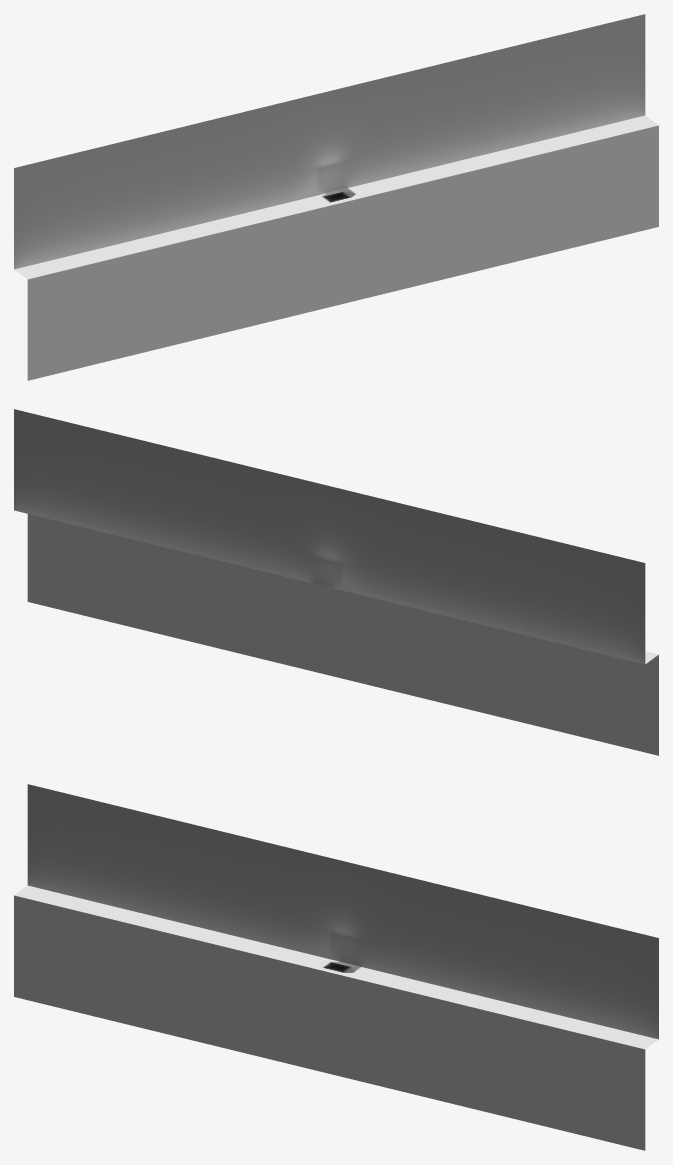
Rendered from floor.glb.
3 renders of one model, top to bottom at view 1: azimuth 30°, elevation 25°; view 2: azimuth 150°, elevation 25°; view 3: azimuth 330°, elevation 25°, orthographic.
Visible parts, largest first — view 1: Plane; view 2: Plane; view 3: Plane.
Part boxes in pixels (bbox=[...]): Plane: bbox=[14, 14, 658, 380]; Plane: bbox=[14, 409, 658, 755]; Plane: bbox=[14, 784, 658, 1150].
Size of the model in its own units: 100 by 30.7 by 3.75.
Materials: 1 (1 with a texture image).
